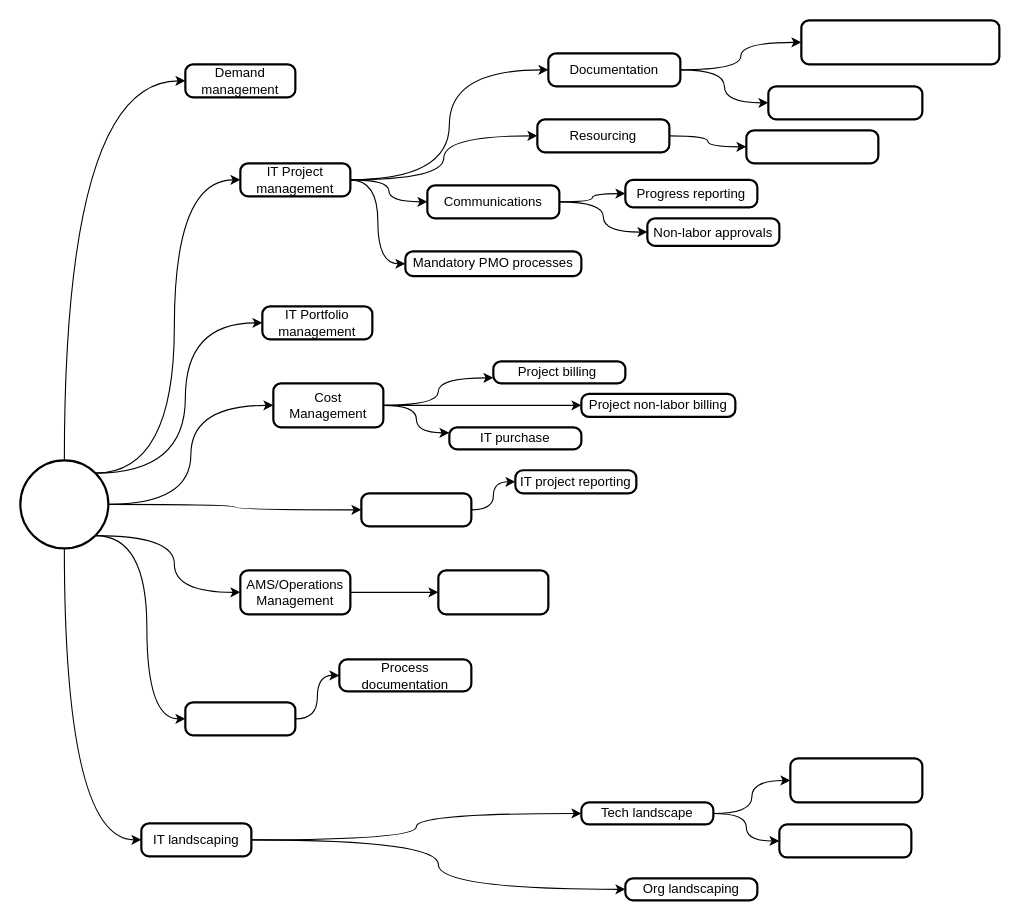
This 1019x920 diagram has some shape labels left out. Here are the shapes that lost their labels. From the top down, the box of each, then its label:
(800, 19, 1000, 65): Project core (scope, timelines, critical dependencies, invoices...)
(767, 85, 923, 120): Project meta (risk...)
(745, 129, 879, 164): Scope clarification and estimation
(19, 459, 109, 549): Classification
(360, 492, 472, 527): Reporting
(437, 569, 549, 615): Escalation management
(184, 701, 296, 736): Process advice
(789, 757, 923, 803): Other apps and infra landscaping
(778, 823, 912, 858): AI landscaping
